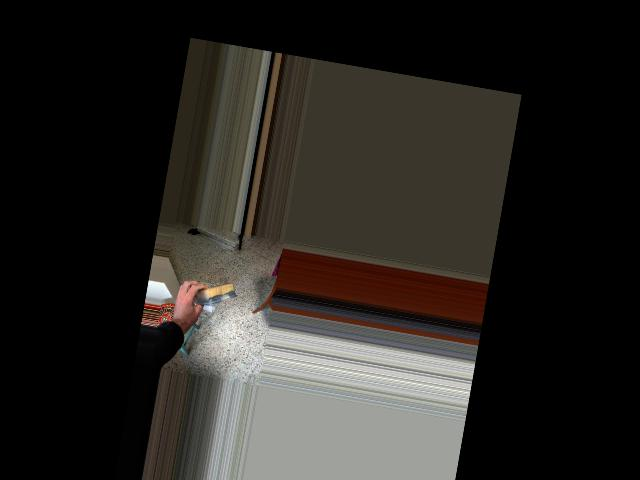cheese: (183, 272, 242, 316)
